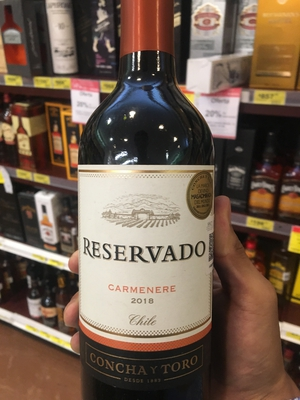reservado carmenere: (72, 12, 229, 381)
